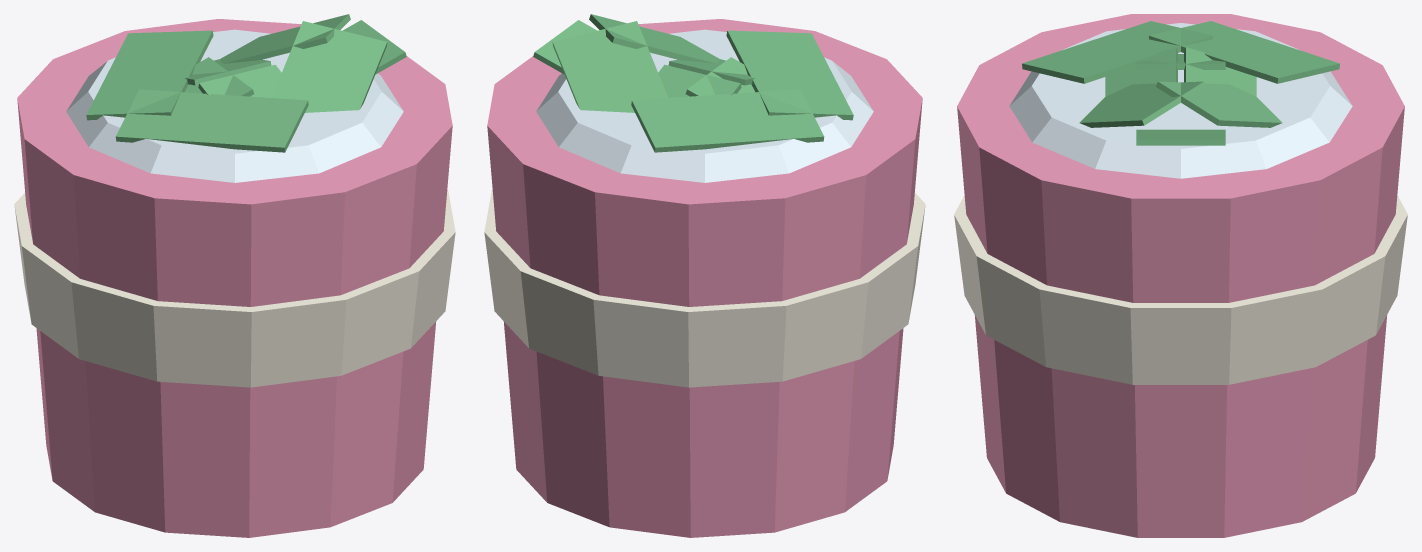
The model's file is cash_bucket.glb.
The picture shows the model from 3 angles, left to right: view 1: azimuth 30°, elevation 25°; view 2: azimuth 150°, elevation 25°; view 3: azimuth 270°, elevation 25°; orthographic projection.
Parts seen in each view (by area): view 1: bucket_cash_bucket_pink, band_cash_bucket_band, bill_cash_bill, frost_cash_frost; view 2: bucket_cash_bucket_pink, band_cash_bucket_band, bill_cash_bill, frost_cash_frost; view 3: bucket_cash_bucket_pink, band_cash_bucket_band, bill_cash_bill, frost_cash_frost.
Part boxes in pixels (x1,y1,x2,y2): bucket_cash_bucket_pink: (17, 19, 452, 537); band_cash_bucket_band: (14, 190, 455, 387); bill_cash_bill: (86, 14, 406, 152); frost_cash_frost: (66, 29, 403, 182); bucket_cash_bucket_pink: (487, 19, 922, 537); band_cash_bucket_band: (484, 190, 925, 387); bill_cash_bill: (533, 14, 853, 152); frost_cash_frost: (536, 29, 873, 182); bucket_cash_bucket_pink: (957, 14, 1404, 537); band_cash_bucket_band: (954, 195, 1407, 384); bill_cash_bill: (1022, 21, 1339, 145); frost_cash_frost: (1009, 23, 1352, 178).
Bounding box in the file's own units: 0.2964 × 0.3074 × 0.304.
